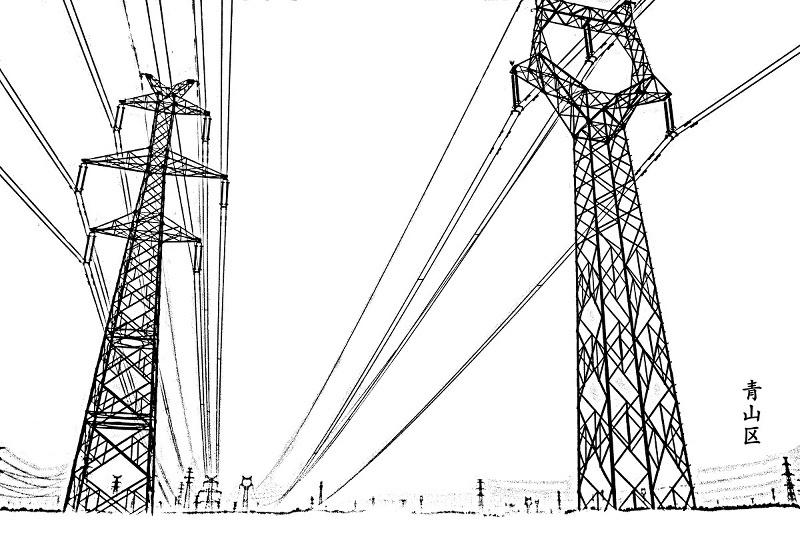power_tower: (491, 2, 711, 514), (55, 67, 231, 513)
